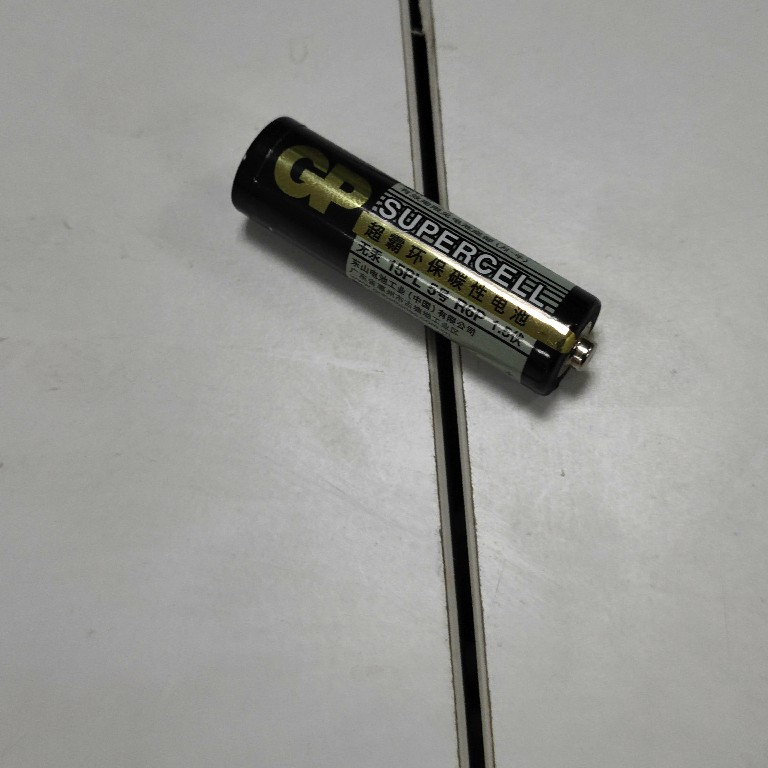charge: (229, 112, 605, 400)
